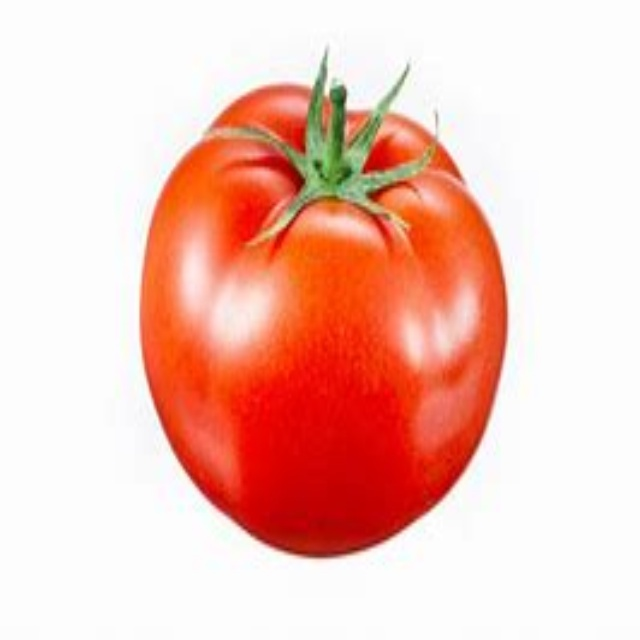tomato: (137, 81, 514, 554)
